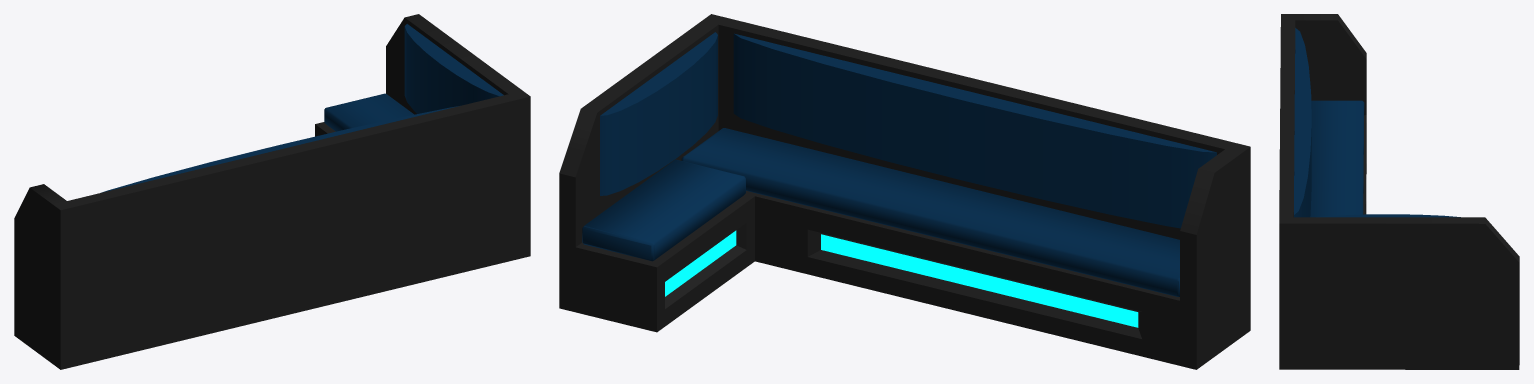
File: ARC0810058.fbx
3 renders of one model, left to right at view 1: azimuth 30°, elevation 25°; view 2: azimuth 150°, elevation 25°; view 3: azimuth 270°, elevation 25°, orthographic. The views are drawn at different scales.
Visible parts, largest first — view 1: smARC0810058; view 2: smARC0810058; view 3: smARC0810058.
Boxes of the visible parts, x1,y1,x2,y2 form: smARC0810058: (14, 14, 530, 369); smARC0810058: (559, 14, 1250, 369); smARC0810058: (1279, 14, 1519, 369).
Size of the model in its own units: 323 by 105 by 156.
Materials: 1 (1 with a texture image).
